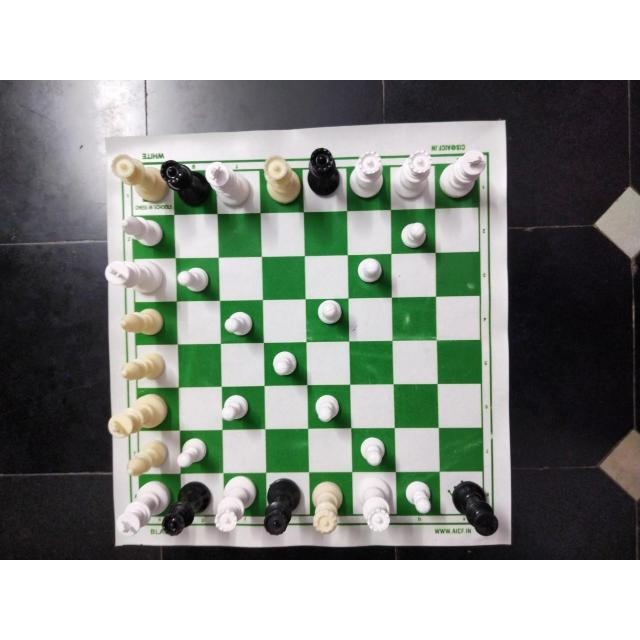black-queen: (446, 474, 501, 538), (161, 481, 212, 539), (160, 159, 209, 206), (262, 477, 301, 535), (305, 144, 341, 200)
white-bishop: (122, 438, 169, 478), (118, 213, 164, 249), (120, 350, 168, 382), (117, 307, 167, 337)
white-king: (112, 482, 172, 537), (109, 393, 173, 441), (438, 148, 489, 198), (105, 258, 165, 296), (207, 161, 251, 208)
white-pawn: (175, 263, 210, 297), (267, 348, 300, 384), (403, 480, 436, 516), (354, 435, 388, 469), (220, 308, 255, 340), (175, 436, 209, 468), (312, 391, 343, 425), (219, 393, 250, 425), (312, 298, 343, 330), (400, 219, 431, 251), (354, 253, 384, 286)
white-queen: (109, 152, 167, 202), (214, 475, 257, 535), (307, 479, 346, 537), (357, 476, 394, 536), (347, 150, 387, 202), (260, 154, 300, 205), (393, 150, 431, 200)
